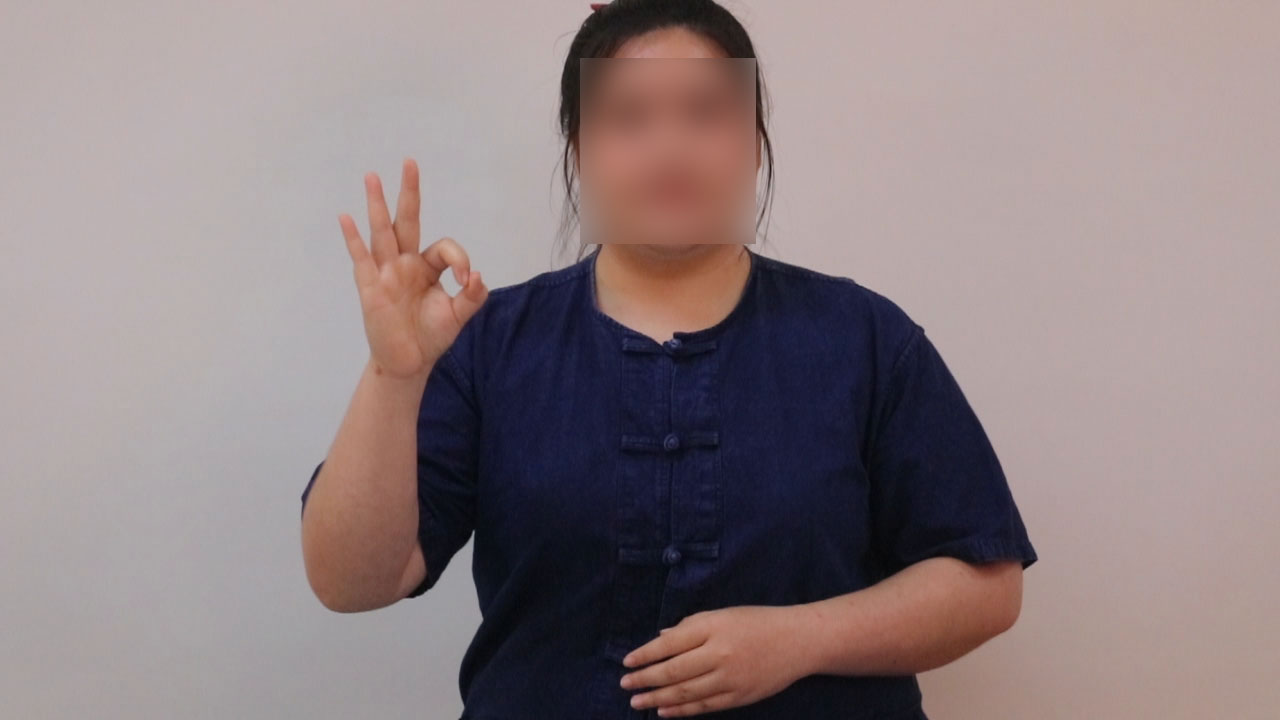for: (334, 148, 493, 381)
